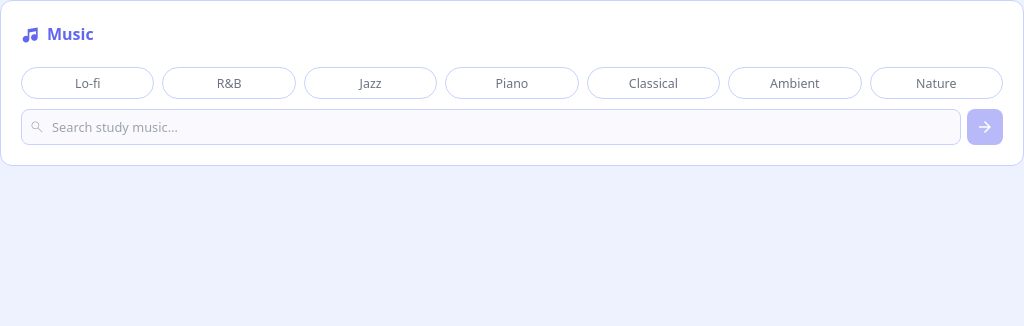
StudyVibeMusic › error state › shows friendly error message when the fetch fails
Step 1. Click the button "Jazz" → (370, 83), box [304,67,437,99]
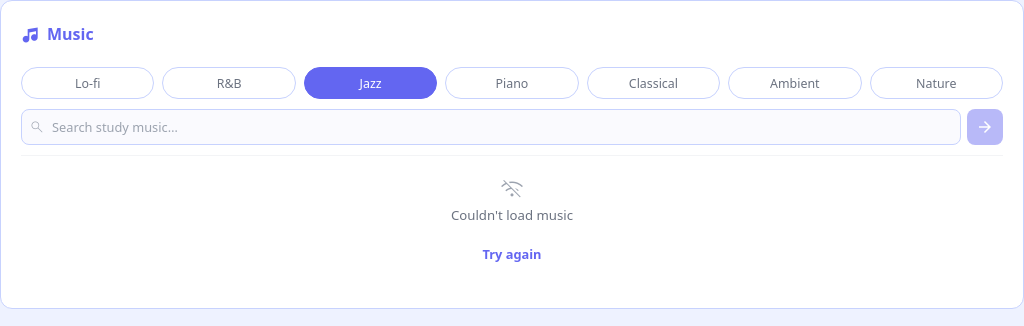
Now the text "Couldn't load music" is shown, box [451,206,573,226]
Now the button "Try again" is shown, box [474,232,550,276]
